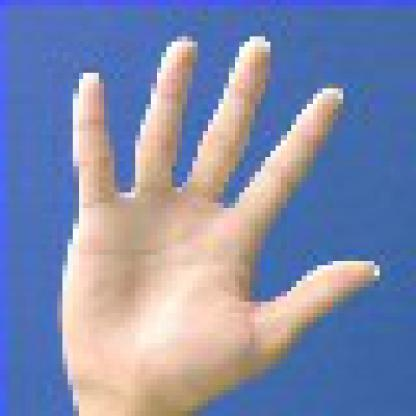five: (40, 22, 391, 400)
